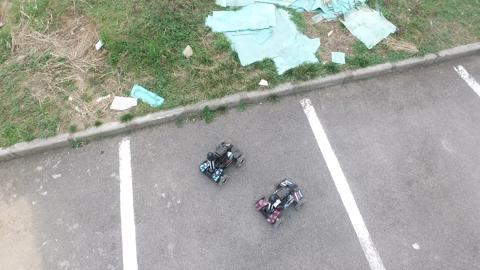chariot: (251, 169, 315, 231), (188, 133, 250, 193)
